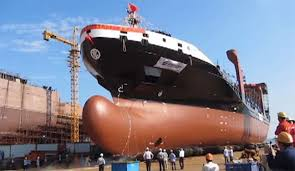tau_dansu: (73, 11, 274, 146)
